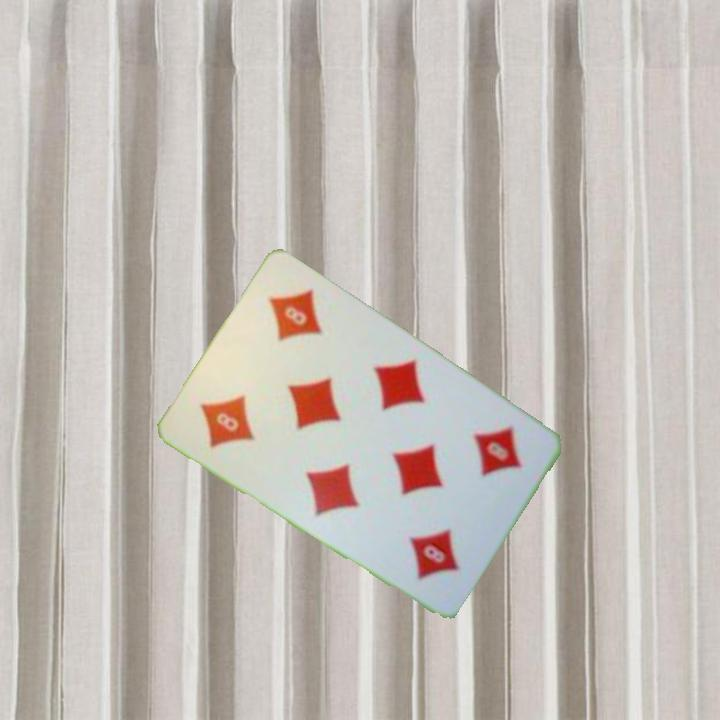d_8.png: (423, 396, 547, 524), (174, 346, 298, 474)
